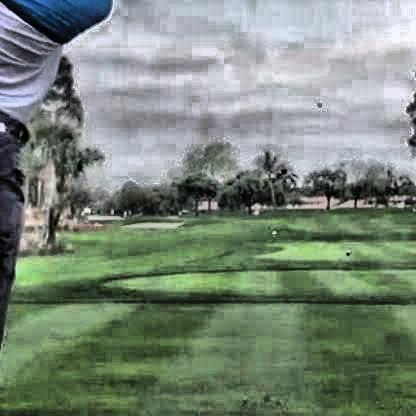golfball: (315, 100, 323, 108)
